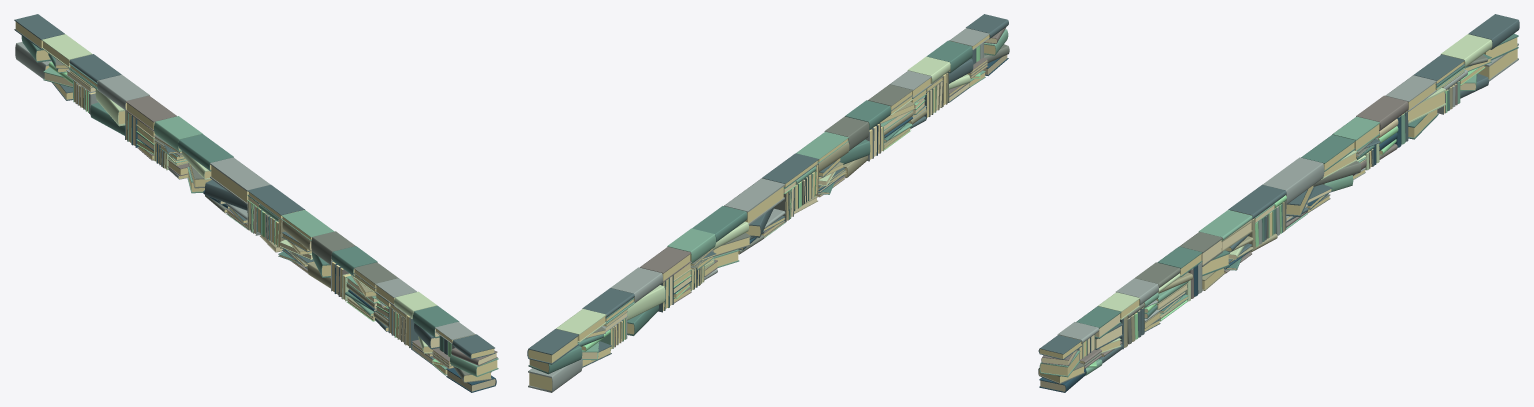
The model's file is 01_Floor.fbx.
The picture shows the model from 3 angles, left to right: view 1: azimuth 30°, elevation 25°; view 2: azimuth 150°, elevation 25°; view 3: azimuth 330°, elevation 25°; orthographic projection.
Visible parts, largest first — view 1: Szene_Floor; view 2: Szene_Floor; view 3: Szene_Floor.
Boxes of the visible parts, left/top/right/bottom form: Szene_Floor: left=14, top=14, right=498, bottom=392; Szene_Floor: left=527, top=14, right=1009, bottom=392; Szene_Floor: left=1038, top=14, right=1519, bottom=392.
Bounding box in the file's own units: 11.15 × 9.74 × 205.
